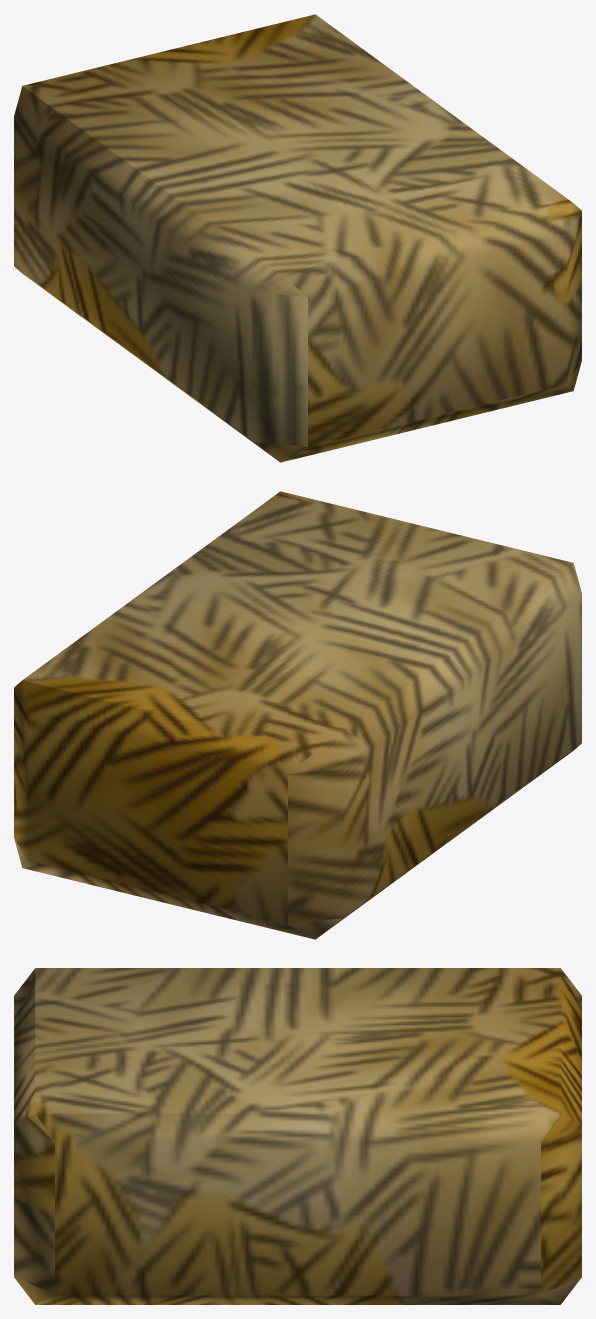
File: HayBale.fbx
3 views of the same model, one above another, from view 1: azimuth 30°, elevation 25°; view 2: azimuth 150°, elevation 25°; view 3: azimuth 270°, elevation 25° (orthographic).
Visible parts, largest first — view 1: Cube; view 2: Cube; view 3: Cube.
Part boxes in pixels (x1,y1,x2,y2): Cube: (14,14,581,462); Cube: (14,491,581,939); Cube: (14,968,581,1304).
Size of the model in its own units: 136 by 74.25 by 200.
Materials: 1 (1 with a texture image).
